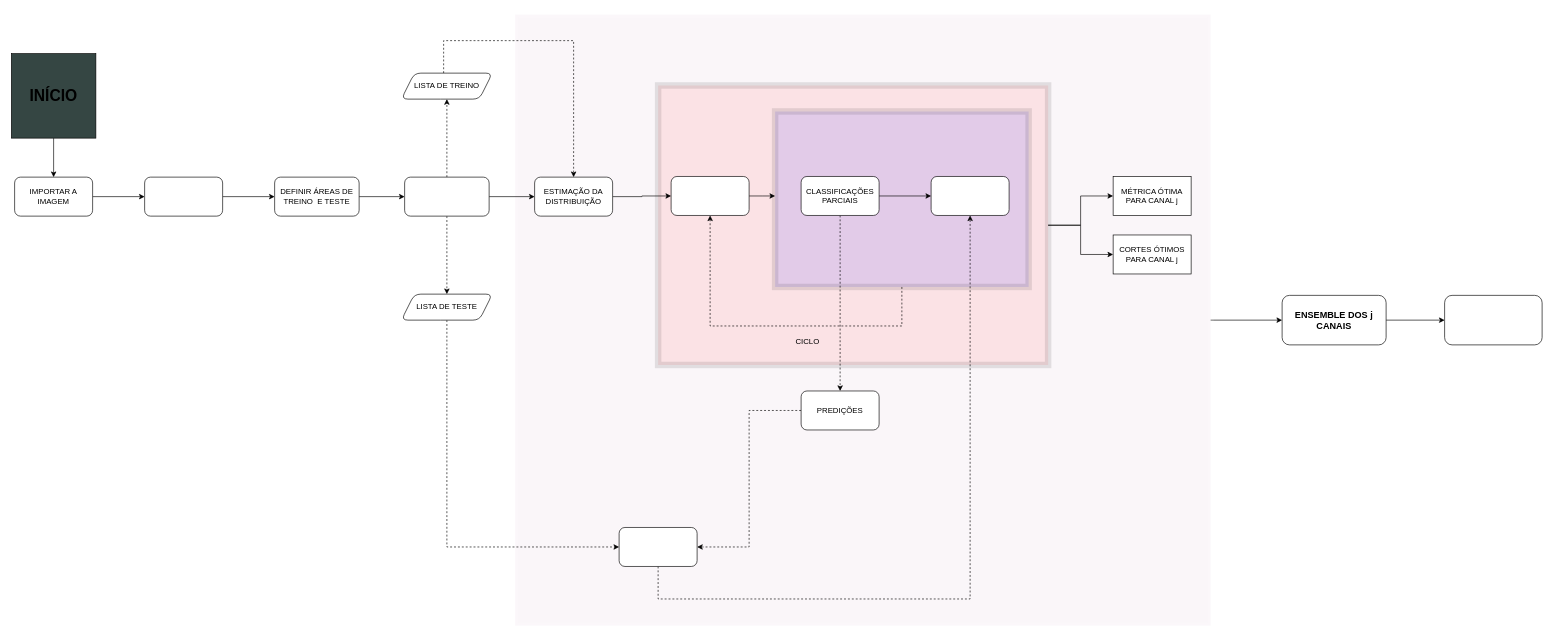
Image size: 1554x640. Some labels were removed from this diagram. The centre of each missing label's shape, as x and y in pixels:
"COMPARAÇÃO" goes at pixel 657 546.
"DEFINIÇÃO DOS CORTES" goes at pixel 709 195.
"EXTRAÇÃO DOS DADOS DO CANAL j" goes at pixel 446 196.
"MÉTRICAS FINAIS" goes at pixel 1493 320.
"MÉTRICAS PARCIAIS" goes at pixel 969 195.
"VISUALIZAR A IMAGEM" goes at pixel 183 196.
